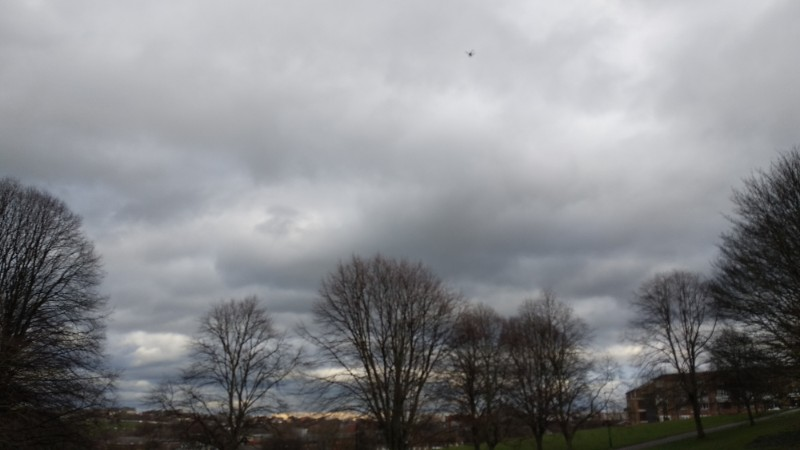drone: (466, 49, 475, 58)
